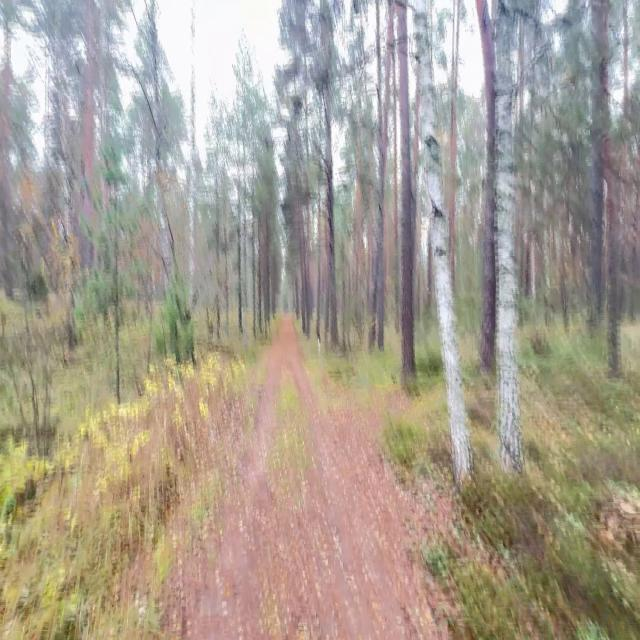trees: (414, 0, 471, 483), (148, 0, 195, 363), (493, 0, 522, 471), (599, 0, 621, 377), (476, 0, 496, 372), (231, 45, 255, 343), (397, 0, 415, 386), (318, 3, 338, 347), (374, 5, 393, 349), (288, 128, 310, 337), (447, 0, 461, 289), (80, 0, 96, 223), (107, 163, 120, 404), (187, 0, 196, 296)
